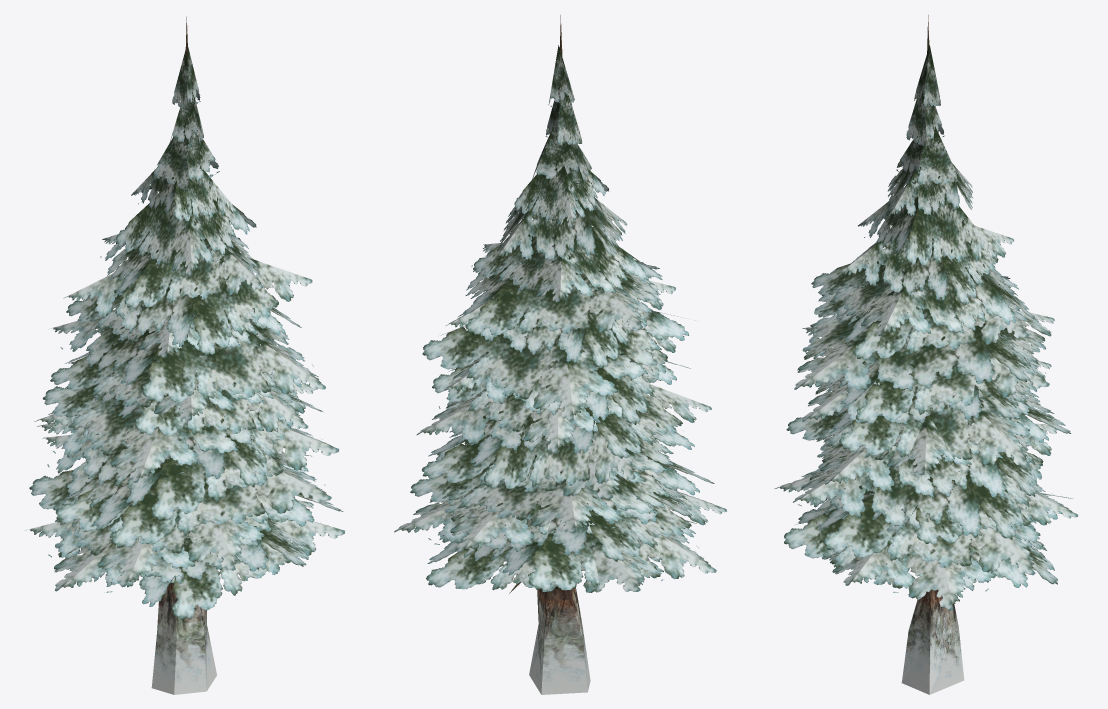
The model's file is C1SNPNSN.obj.
The picture shows the model from 3 angles, left to right: view 1: azimuth 30°, elevation 25°; view 2: azimuth 150°, elevation 25°; view 3: azimuth 270°, elevation 25°; orthographic projection.
Parts seen in each view (by area): view 1: Node 0; view 2: Node 0; view 3: Node 0.
Part boxes in pixels (x1,y1,x2,y2): Node 0: (26, 16, 344, 694); Node 0: (394, 15, 726, 694); Node 0: (774, 15, 1078, 694).
Size of the model in its own units: 14.68 by 31.68 by 14.21.
1 material, 1 textured.
